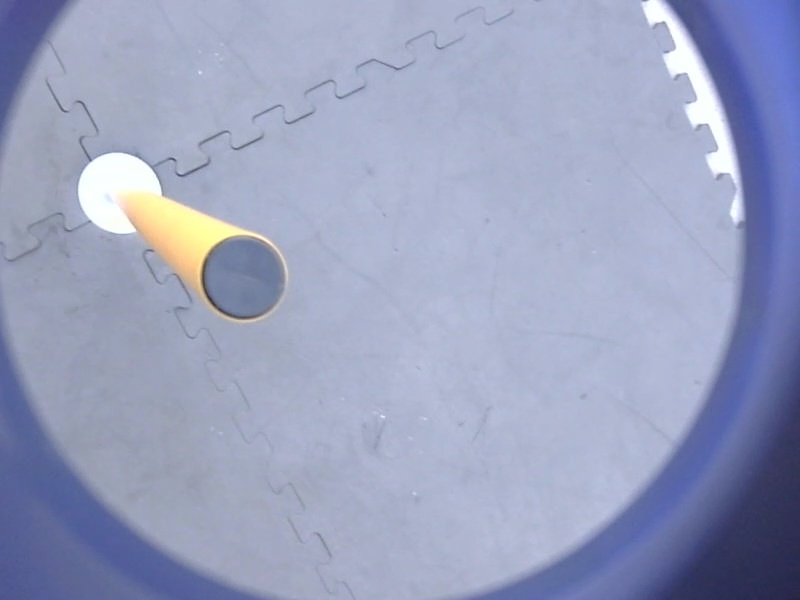tip: (195, 228, 293, 329)
